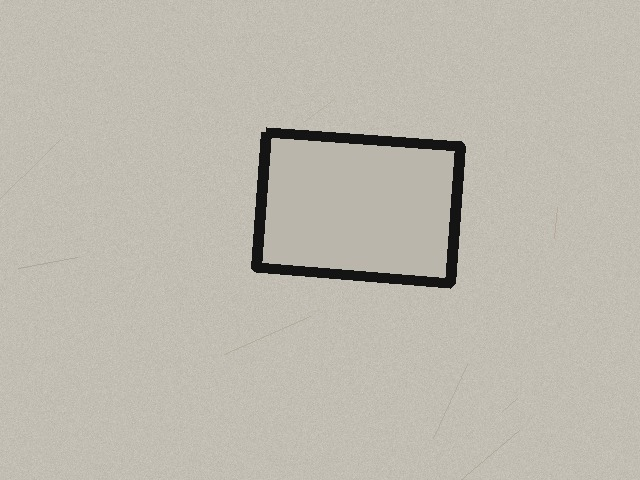parking_area: (256, 132, 460, 283)
